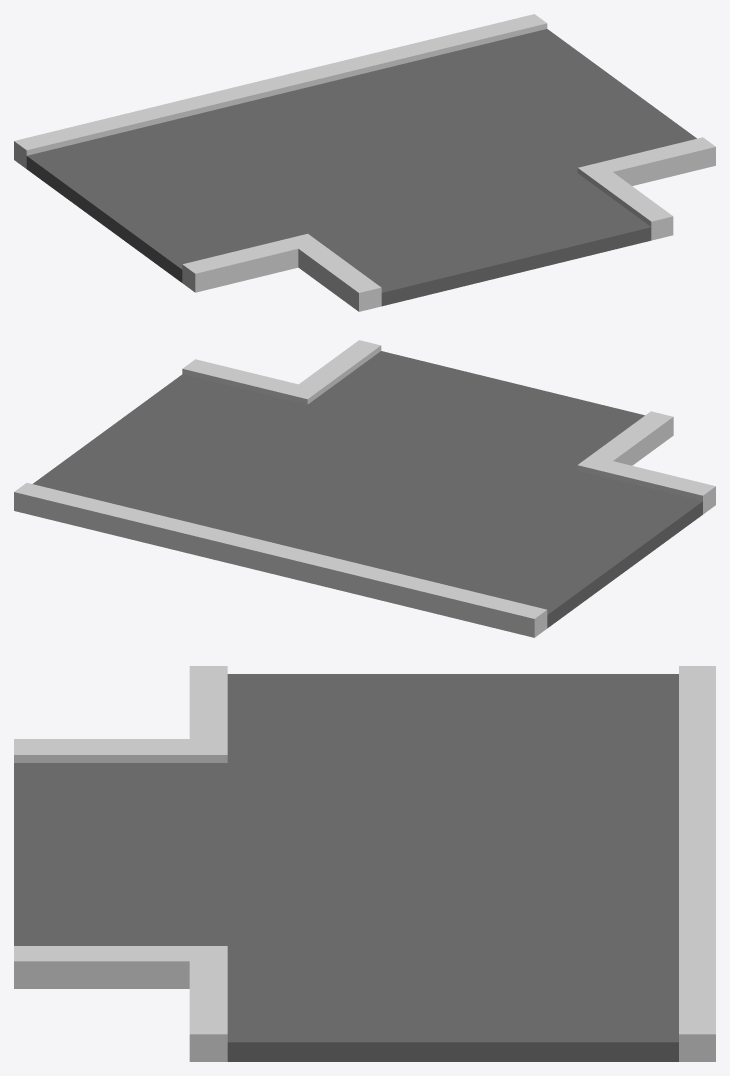
3 renders of one model, top to bottom at view 1: azimuth 30°, elevation 25°; view 2: azimuth 150°, elevation 25°; view 3: azimuth 270°, elevation 25°, orthographic. The views are drawn at different scales.
Parts seen in each view (by area): view 1: Lo-Body_01; view 2: Lo-Body_01; view 3: Lo-Body_01.
Boxes of the visible parts, <box> form: Lo-Body_01: <box>14,14,715,311</box>; Lo-Body_01: <box>14,340,715,637</box>; Lo-Body_01: <box>14,666,715,1061</box>.
Size of the model in its own units: 10.42 by 0.362 by 8.39.
1 material, 1 textured.
